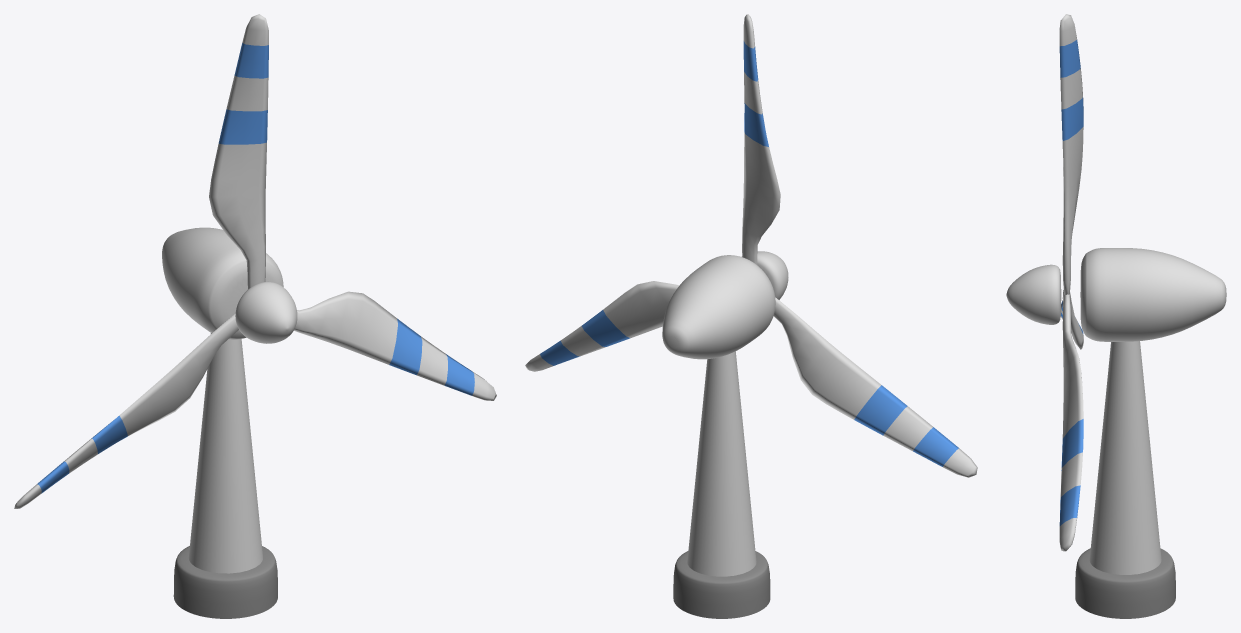
Rendered from Windmill.glb.
The picture shows the model from 3 angles, left to right: view 1: azimuth 30°, elevation 25°; view 2: azimuth 150°, elevation 25°; view 3: azimuth 270°, elevation 25°; orthographic projection. The views are drawn at different scales.
Visible parts, largest first — view 1: Plane, Circle, Circle.001, Circle.003, Circle.002; view 2: Plane, Circle, Circle.001, Circle.003, Circle.002; view 3: Circle, Circle.001, Plane, Circle.003, Circle.002.
Boxes of the visible parts, left/top/right/bottom form: Plane: left=14, top=14, right=496, bottom=508; Circle: left=188, top=333, right=262, bottom=573; Circle.001: left=162, top=227, right=283, bottom=339; Circle.003: left=173, top=546, right=277, bottom=618; Circle.002: left=235, top=281, right=297, bottom=343; Plane: left=525, top=14, right=977, bottom=477; Circle: left=687, top=351, right=756, bottom=576; Circle.001: left=662, top=255, right=775, bottom=359; Circle.003: left=673, top=551, right=770, bottom=618; Circle.002: left=741, top=251, right=788, bottom=299; Circle: left=1089, top=341, right=1161, bottom=574; Circle.001: left=1080, top=248, right=1226, bottom=341; Plane: left=1059, top=14, right=1083, bottom=551; Circle.003: left=1075, top=548, right=1175, bottom=618; Circle.002: left=1006, top=264, right=1061, bottom=324.
Size of the model in its own units: 5.89 by 7.05 by 2.41.
